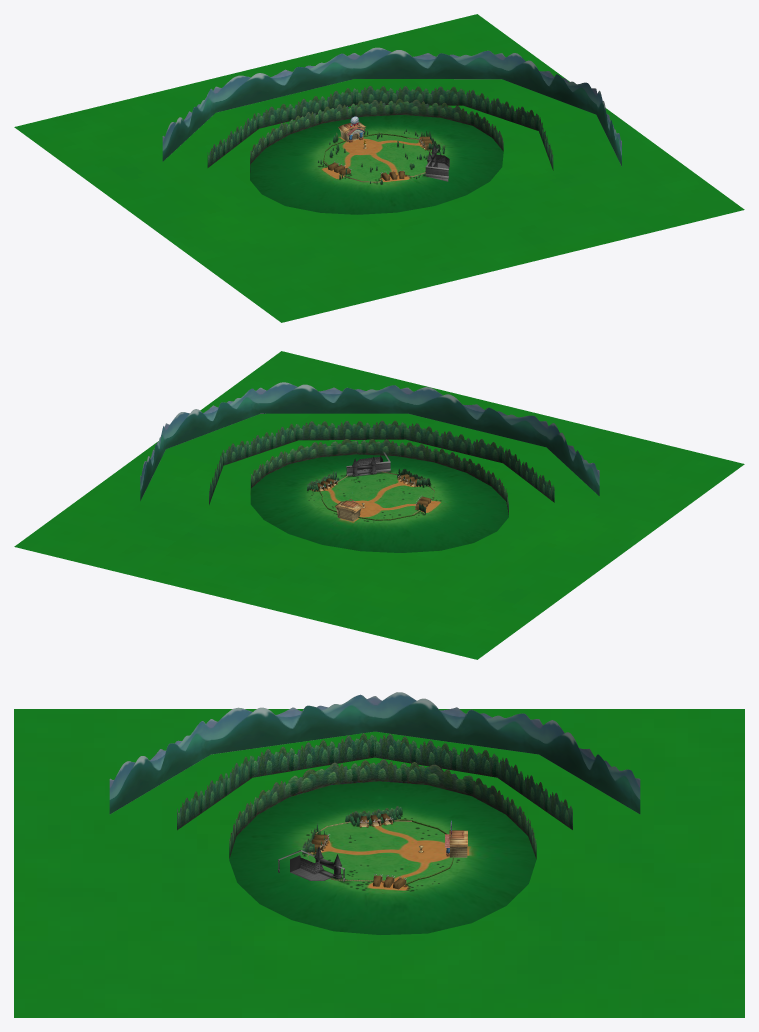
The model's file is chip_n_dales_minigolf.glb.
The picture shows the model from 3 angles, top to bottom: view 1: azimuth 30°, elevation 25°; view 2: azimuth 150°, elevation 25°; view 3: azimuth 270°, elevation 25°; orthographic projection. The views are drawn at different scales.
Visible parts, largest first — view 1: grass_plane, hill, background1, background3, tree_background1; view 2: grass_plane, hill, background1, background3, tree_background1; view 3: grass_plane, hill, background1, background3, tree_background1.
Boxes of the visible parts, <box> form: grass_plane: <box>14,14,744,322</box>; hill: <box>250,115,503,214</box>; background1: <box>162,47,621,166</box>; background3: <box>207,86,553,170</box>; tree_background1: <box>250,98,503,172</box>; grass_plane: <box>14,351,744,659</box>; hill: <box>250,454,508,552</box>; background1: <box>140,382,599,500</box>; background3: <box>209,420,554,504</box>; tree_background1: <box>250,439,508,514</box>; grass_plane: <box>14,709,744,1017</box>; hill: <box>229,781,536,934</box>; background1: <box>109,692,640,814</box>; background3: <box>177,733,572,830</box>; tree_background1: <box>229,759,536,859</box>.
Size of the model in its own units: 1353 by 98.92 by 1353.
Materials: 36 (35 with a texture image).
